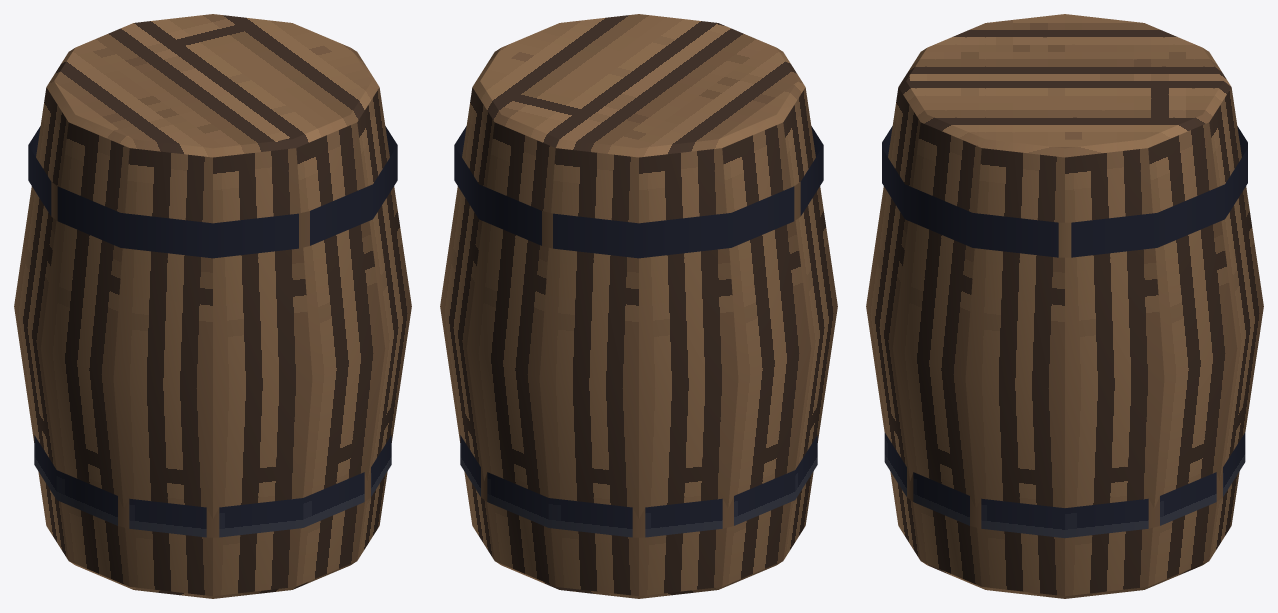
The model's file is barrel_0.glb.
3 views of the same model, side by side, from view 1: azimuth 30°, elevation 25°; view 2: azimuth 150°, elevation 25°; view 3: azimuth 270°, elevation 25° (orthographic).
Visible parts, largest first — view 1: barrel_1; view 2: barrel_1; view 3: barrel_1.
Boxes of the visible parts, x1,y1,x2,y2 form: barrel_1: (14,14,411,598); barrel_1: (440,14,837,598); barrel_1: (866,14,1263,598).
Size of the model in its own units: 0.72 by 0.9 by 0.72.
Materials: 2 (2 with a texture image).
